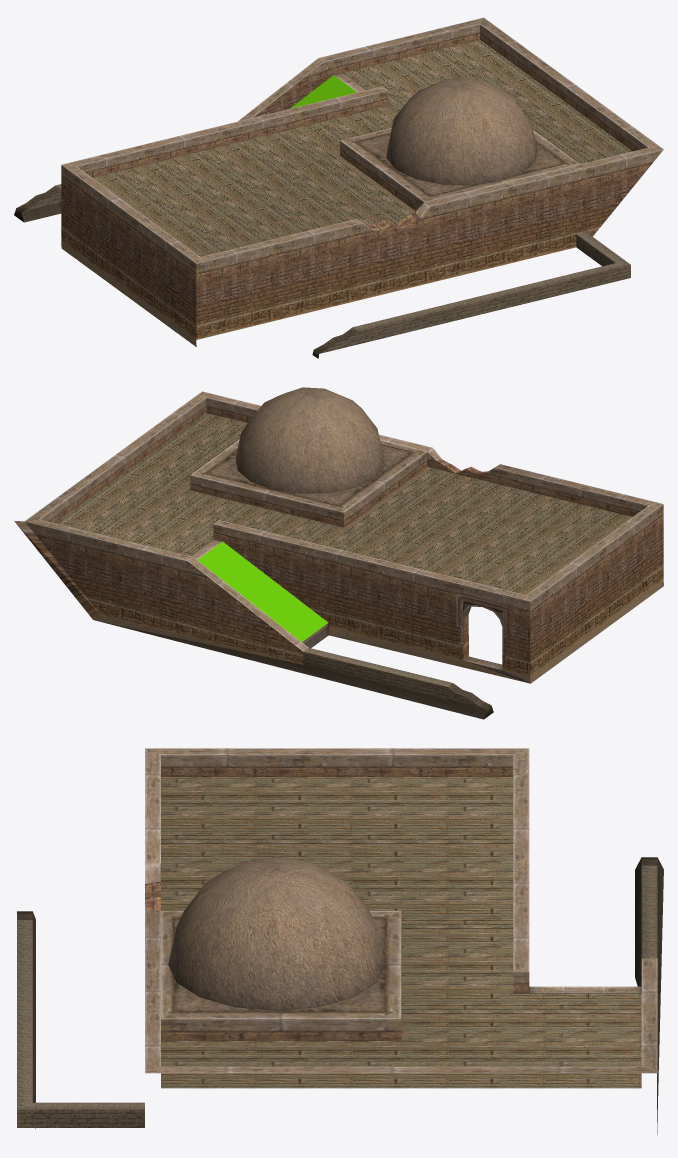
Rendered from Mis4_Outpost.glb.
3 views of the same model, one above another, from view 1: azimuth 30°, elevation 25°; view 2: azimuth 150°, elevation 25°; view 3: azimuth 270°, elevation 25° (orthographic). The views are drawn at different scales.
Visible parts, largest first — view 1: MIS4_OUTPOST; view 2: MIS4_OUTPOST; view 3: MIS4_OUTPOST.
Part boxes in pixels (<box>): MIS4_OUTPOST: <box>14,17,663,358</box>; MIS4_OUTPOST: <box>14,387,663,719</box>; MIS4_OUTPOST: <box>17,748,663,1134</box>.
Size of the model in its own units: 24.44 by 7.57 by 20.29.
Materials: 13 (12 with a texture image).
